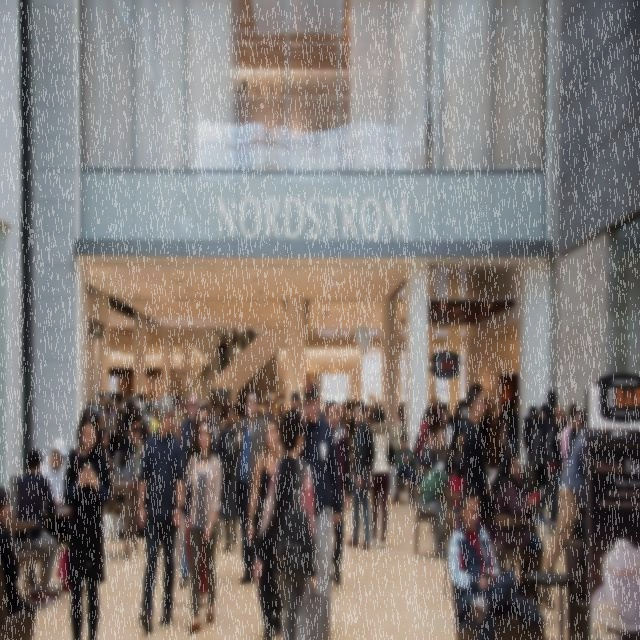pessoa: (252, 405, 319, 639), (536, 424, 614, 612), (56, 403, 114, 639), (135, 389, 188, 636), (446, 480, 518, 640), (172, 417, 224, 636), (297, 382, 343, 616), (180, 402, 228, 614), (247, 414, 285, 639), (228, 387, 269, 591), (492, 446, 544, 598), (12, 448, 58, 608), (324, 400, 354, 586), (177, 392, 202, 589), (344, 399, 374, 554), (416, 454, 457, 558), (461, 380, 490, 524), (112, 432, 150, 540), (369, 405, 394, 552), (216, 404, 238, 554), (39, 435, 70, 538), (0, 485, 23, 613), (529, 401, 549, 527), (388, 430, 418, 510), (543, 402, 566, 490), (258, 383, 290, 427), (541, 388, 568, 439), (416, 406, 434, 482), (560, 400, 578, 470), (439, 406, 462, 459), (564, 408, 584, 466), (234, 75, 254, 130), (333, 410, 346, 493), (448, 459, 466, 514), (128, 406, 150, 450), (504, 397, 520, 455), (522, 404, 538, 462), (432, 427, 452, 470), (172, 398, 189, 448), (498, 398, 510, 466), (359, 392, 382, 426), (421, 426, 437, 472), (140, 398, 160, 434), (481, 398, 491, 453), (209, 398, 222, 440), (113, 394, 126, 434), (350, 400, 360, 452), (100, 427, 111, 472), (286, 389, 304, 416), (102, 400, 115, 437), (499, 408, 508, 458), (217, 336, 228, 376), (455, 432, 465, 474), (433, 397, 442, 442), (340, 400, 350, 439), (246, 318, 256, 352), (260, 398, 274, 422), (317, 392, 329, 420), (124, 400, 134, 432), (230, 314, 238, 352), (233, 401, 240, 444), (482, 446, 492, 476), (219, 402, 228, 432), (386, 437, 395, 467), (222, 338, 230, 371), (490, 401, 502, 420), (240, 329, 247, 354), (400, 400, 406, 418), (221, 328, 228, 343), (440, 400, 450, 410), (131, 401, 137, 417), (304, 372, 312, 384), (300, 394, 306, 410), (429, 396, 436, 409), (332, 398, 339, 411), (212, 328, 218, 333)
